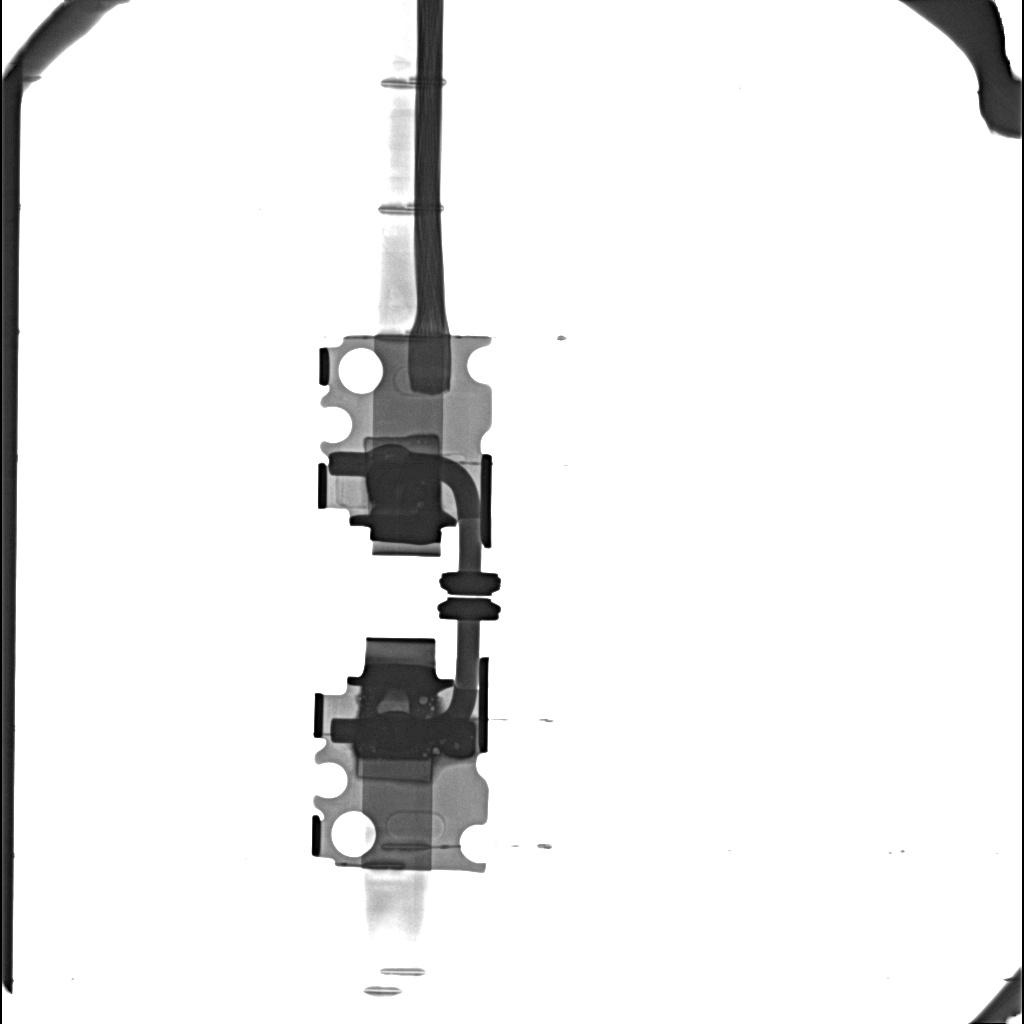PX: (356, 759, 435, 784), (362, 434, 440, 450)
QP: (376, 700, 409, 714), (419, 696, 428, 704)
SX: (353, 715, 475, 759), (366, 454, 440, 504)
